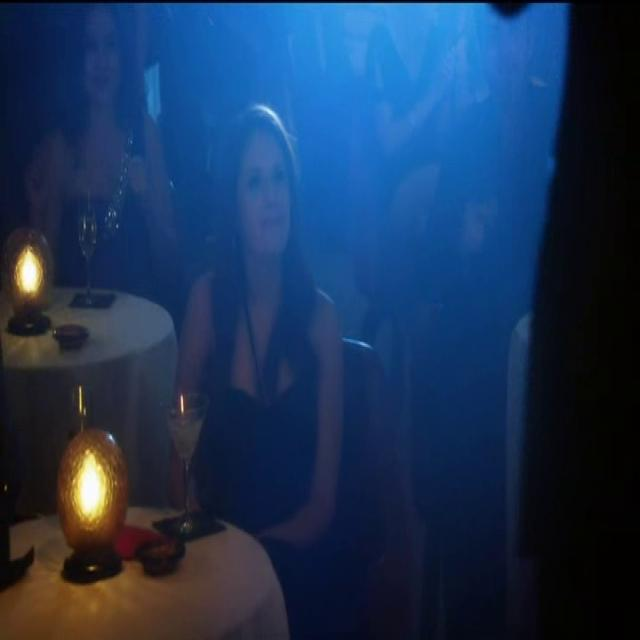Cup: (154, 384, 215, 508), (76, 194, 99, 287)
People: (186, 77, 320, 582), (75, 0, 141, 267)
Table: (0, 481, 253, 640), (0, 278, 179, 481)
chair: (331, 295, 414, 622)
